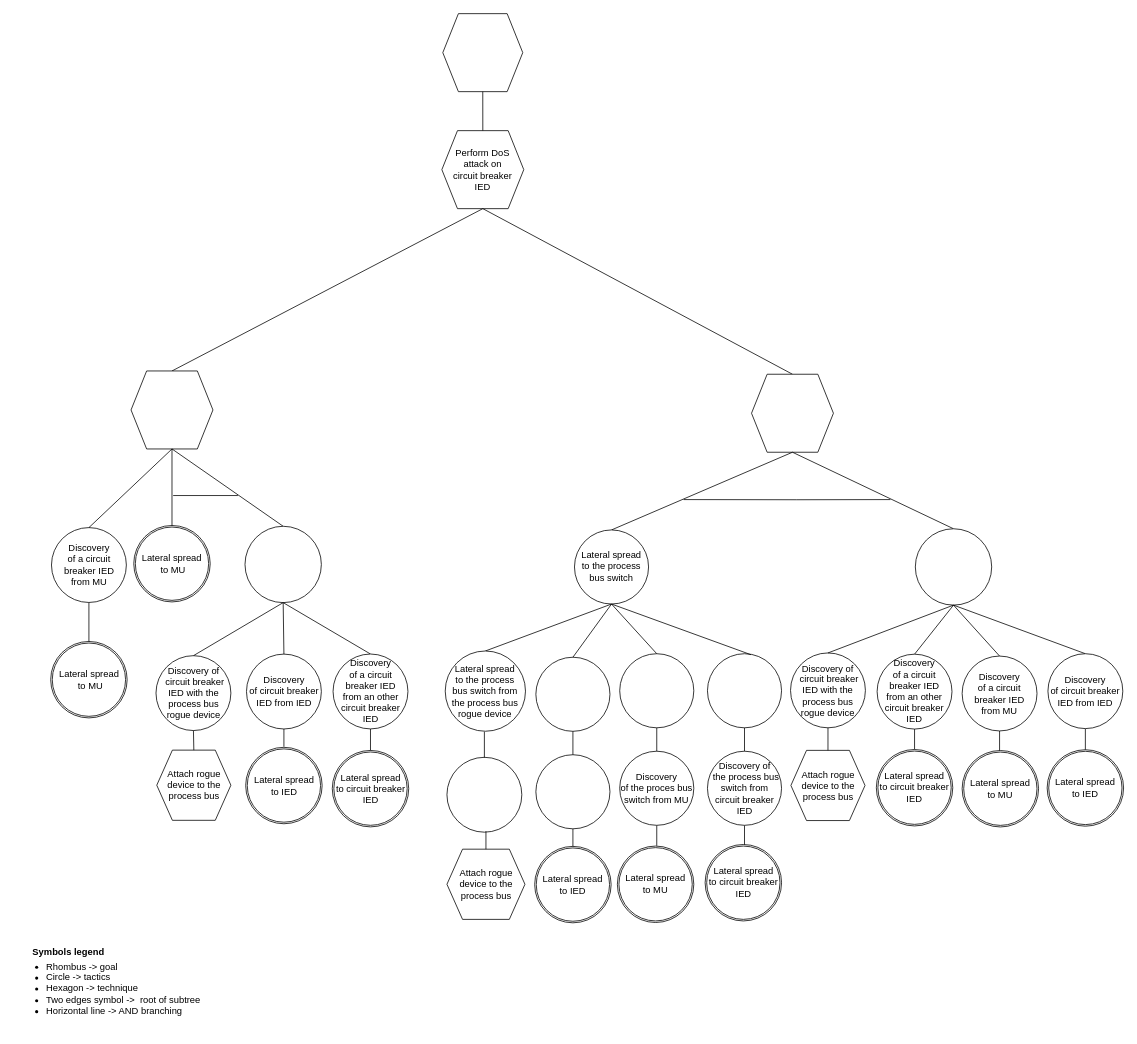
Image size: 1137x1044. Some labels were removed from this diagram. The centre of each missing label's shape, as x and y in pixels:
"Discovery of a circuit breaker IED" goes at point 953,566.
"Discovery of a circuit breaker IED not from MU" goes at point 282,564.
"Discovery of IED from the process bus device" goes at point 484,794.
"Discovery of the proces bus switch from IED" goes at point 572,791.
"Lateral spread to the process bus switch from circuit breaker IED" goes at point 744,690.
"Lateral spread to the process bus switch from IED" goes at point 572,693.
"Lateral spread to the process bus switch from MU" goes at point 656,690.
"Perform DoS attack" goes at point 482,52.
"Perform DoS attack on the circuit breaker IED from MU" goes at point 171,409.
"Perform DoS attack on the circuit breaker IED from process bus switch" goes at point 792,412.
